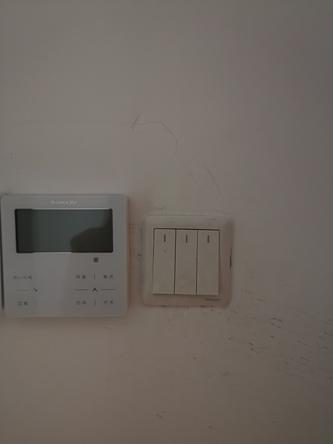switch: (194, 225, 224, 300), (172, 225, 200, 297), (151, 224, 178, 297)
